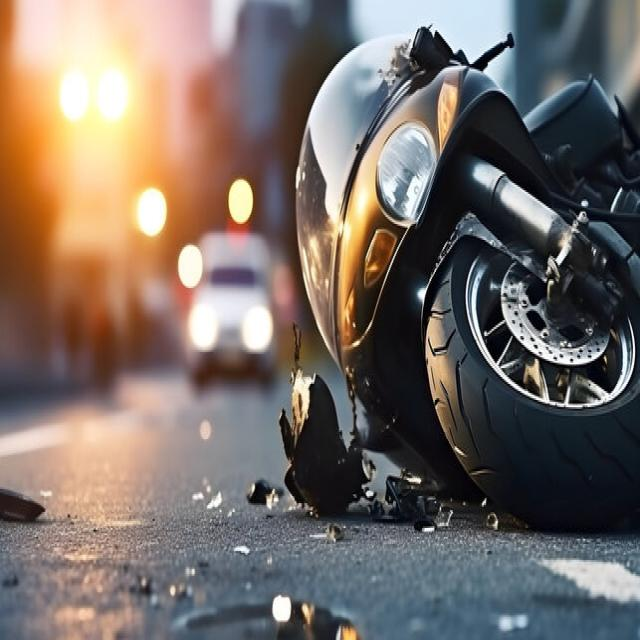accident: (280, 27, 640, 531)
